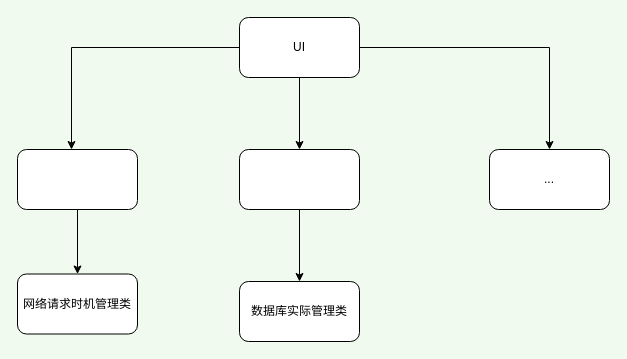
Some shapes in this 627 by 359 pixel diagram are drawn without their labels. Each missing label, with the box of its shape:
数据库封装层: (238, 148, 360, 210)
网络请求封装层: (16, 148, 138, 210)
